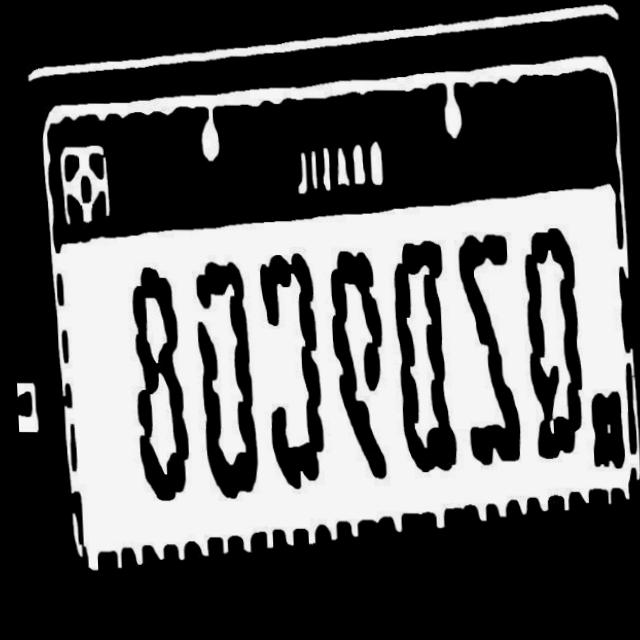0: (191, 252, 261, 502)
8: (124, 261, 189, 508)
9: (326, 246, 390, 482)
c: (258, 240, 324, 491)
d: (388, 234, 458, 479)
q: (521, 222, 584, 465)
z: (453, 229, 521, 464)
